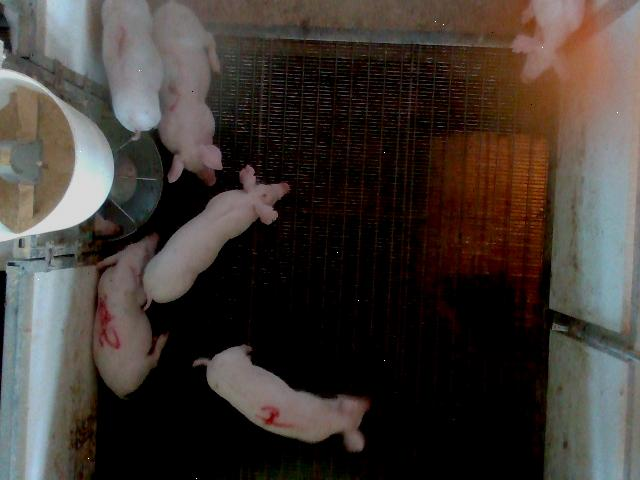pig-1: (101, 1, 162, 139)
pig-3: (154, 2, 221, 185)
pig-4: (192, 346, 370, 452)
pig-5: (94, 233, 169, 400)
